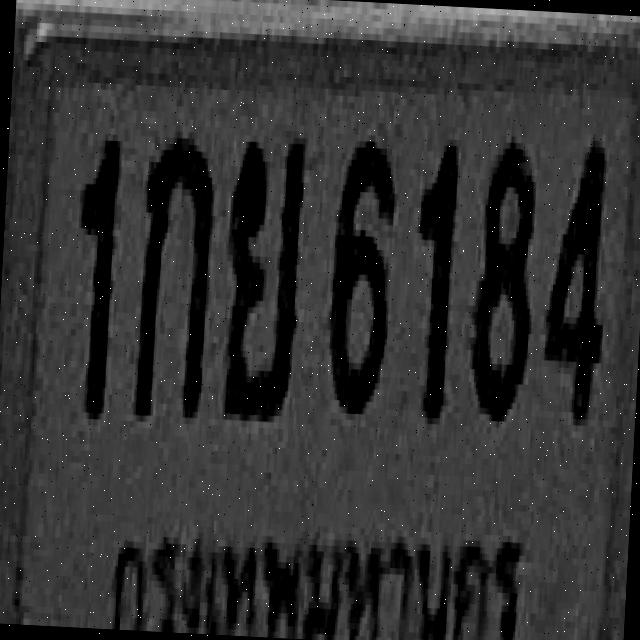1: (408, 135, 460, 422), (68, 133, 120, 420)
10GorGai: (133, 130, 217, 418)
4: (540, 136, 612, 424)
43YorYak: (220, 132, 306, 420)
6: (325, 134, 397, 416)
8: (467, 135, 539, 423)
Bangkok: (102, 502, 528, 640)
